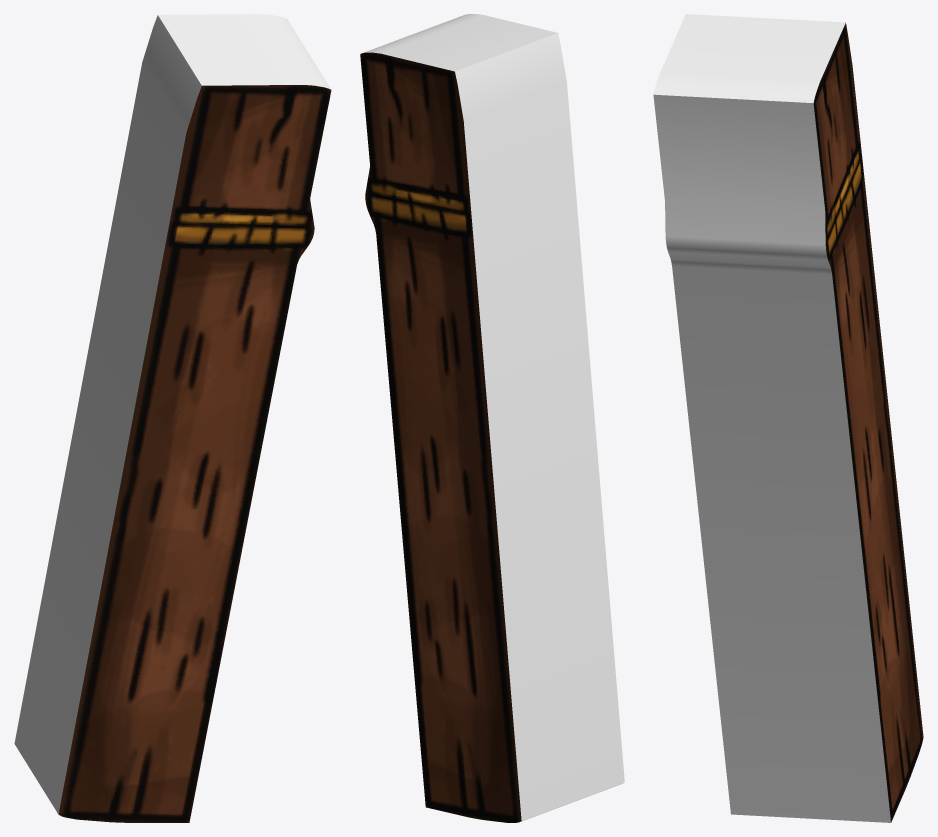
Rendered from Tabuona.dae.
3 renders of one model, left to right at view 1: azimuth 30°, elevation 25°; view 2: azimuth 150°, elevation 25°; view 3: azimuth 270°, elevation 25°, orthographic. The views are drawn at different scales.
Parts seen in each view (by area): view 1: Camada_1; view 2: Camada_1; view 3: Camada_1.
Boxes of the visible parts, x1=… form: Camada_1: x1=14, y1=14, x2=331, y2=822; Camada_1: x1=360, y1=14, x2=624, y2=822; Camada_1: x1=653, y1=14, x2=923, y2=822.
Bounding box in the file's own units: 47.17 × 136 × 41.44.
3 materials, 3 textured.
